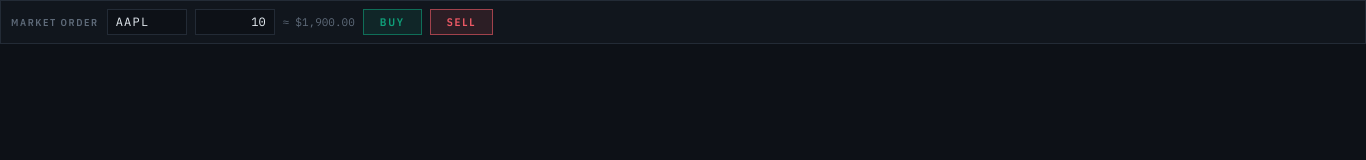
Test: TradeBar › buys at the market with no confirmation step
The width and height of the screenshot is (1366, 160).
Click the button with test id "trade-buy". click: (392, 22)
box: x1=363 y1=9 x2=422 y2=35
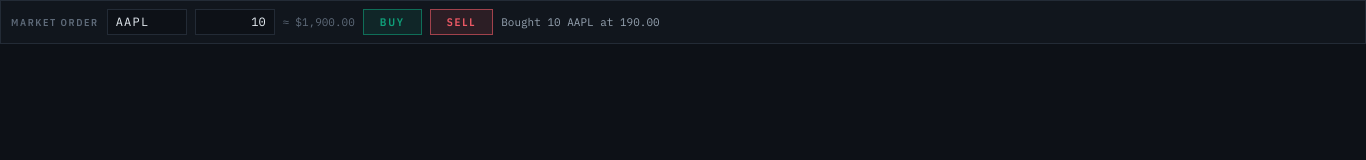
Result: the message with test id "trade-notice" reads "Bought 10 AAPL at 190.00" at x1=501 y1=15 x2=660 y2=29
